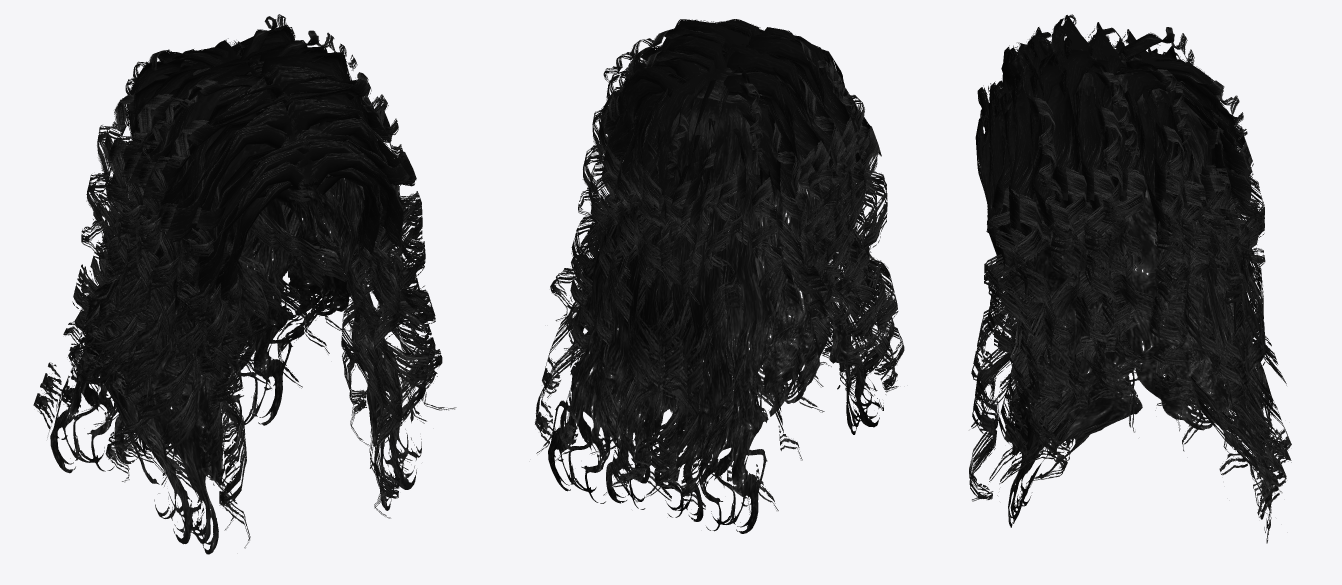
Rendered from mh_punkduck_alpha7_curly.glb.
The picture shows the model from 3 angles, left to right: view 1: azimuth 30°, elevation 25°; view 2: azimuth 150°, elevation 25°; view 3: azimuth 270°, elevation 25°; orthographic projection. The views are drawn at different scales.
Visible parts, largest first — view 1: mh_punkduck_alpha7_curly; view 2: mh_punkduck_alpha7_curly; view 3: mh_punkduck_alpha7_curly.
Boxes of the visible parts, x1=… form: mh_punkduck_alpha7_curly: x1=33, y1=14, x2=456, y2=554; mh_punkduck_alpha7_curly: x1=535, y1=19, x2=904, y2=533; mh_punkduck_alpha7_curly: x1=969, y1=14, x2=1291, y2=543.
Bounding box in the file's own units: 0.3919 × 0.4987 × 0.3421.
1 material, 1 textured.
